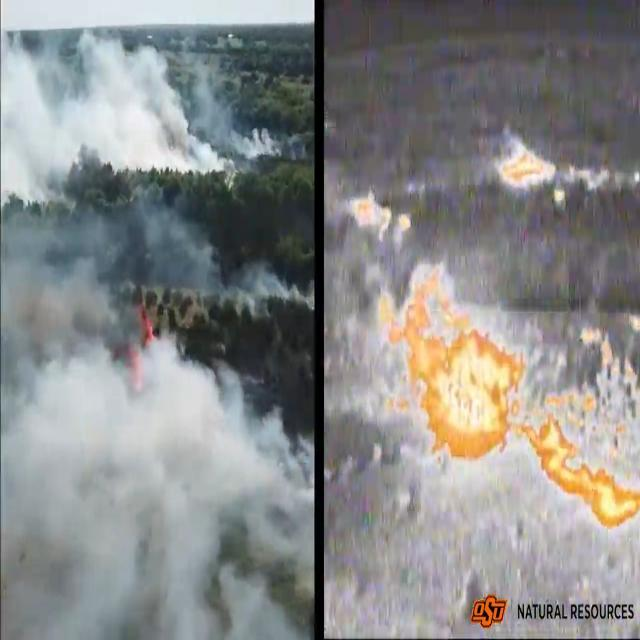fire: (378, 268, 530, 468), (528, 315, 640, 535), (496, 142, 561, 200), (345, 194, 415, 244), (128, 296, 158, 403)
